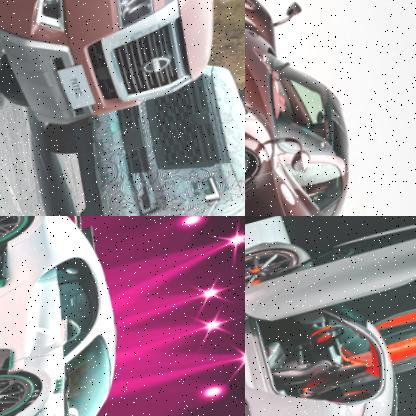car: (245, 0, 407, 216), (0, 216, 172, 416), (245, 216, 416, 416), (65, 55, 245, 216)
